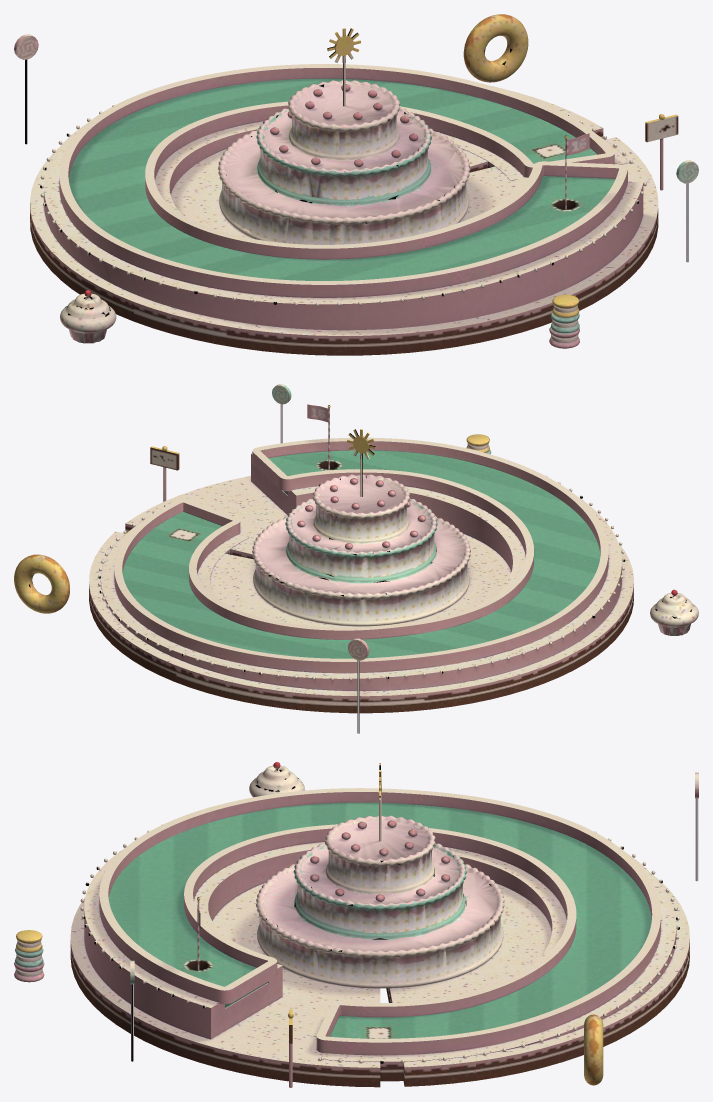
The model's file is hole16.glb.
3 renders of one model, top to bottom at view 1: azimuth 30°, elevation 25°; view 2: azimuth 150°, elevation 25°; view 3: azimuth 270°, elevation 25°, orthographic. The views are drawn at different scales.
Parts seen in each view (by area): view 1: Base, Rails, Green, WeddingCake, Decor4, Decor1, Decor2, HoleSign, Roses, LedgePiping, SunTopper, Decor3 (+2 smaller); view 2: Base, Green, Rails, WeddingCake, Decor4, Decor1, LedgePiping, Roses, HoleSign, SunTopper, Decor3; view 3: Base, Green, WeddingCake, Rails, Decor2, Decor4, Decor1, Roses, LedgePiping.
Part boxes in pixels (bbox=[...]): Base: bbox=[30, 86, 658, 355]; Rails: bbox=[59, 64, 627, 297]; Green: bbox=[68, 78, 615, 280]; WeddingCake: bbox=[218, 80, 470, 244]; Decor4: bbox=[463, 14, 528, 82]; Decor1: bbox=[60, 290, 116, 343]; Decor2: bbox=[549, 294, 579, 348]; HoleSign: bbox=[645, 114, 678, 190]; Roses: bbox=[270, 84, 418, 166]; LedgePiping: bbox=[40, 105, 646, 306]; SunTopper: bbox=[327, 28, 360, 106]; Decor3: bbox=[14, 34, 38, 144]; Base: bbox=[89, 453, 633, 713]; Green: bbox=[122, 450, 600, 658]; Rails: bbox=[114, 437, 608, 673]; WeddingCake: bbox=[252, 474, 470, 626]; Decor4: bbox=[14, 554, 69, 613]; Decor1: bbox=[650, 589, 698, 635]; LedgePiping: bbox=[97, 470, 625, 680]; Roses: bbox=[297, 478, 425, 549]; HoleSign: bbox=[150, 446, 179, 501]; SunTopper: bbox=[347, 429, 375, 496]; Decor3: bbox=[348, 638, 369, 733]; Base: bbox=[70, 842, 689, 1087]; Green: bbox=[108, 802, 651, 1038]; WeddingCake: bbox=[256, 815, 504, 988]; Rails: bbox=[99, 788, 660, 1055]; Decor2: bbox=[14, 930, 44, 982]; Decor4: bbox=[584, 1014, 603, 1085]; Decor1: bbox=[249, 762, 304, 797]; Roses: bbox=[310, 820, 450, 901]; LedgePiping: bbox=[80, 824, 679, 1063].
Size of what is drawn, in the model's own units: 10.32 by 3.08 by 9.95.
1 material, 1 textured.
